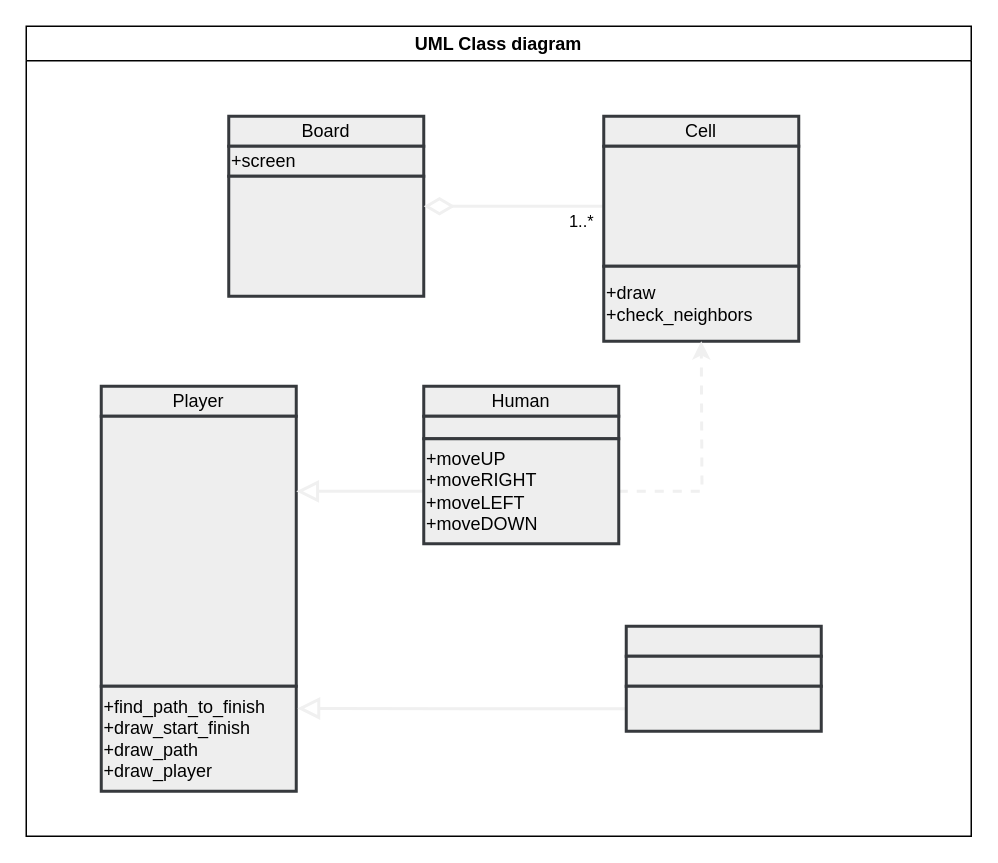
Image size: 998x863. Some labels were removed from this diagram. The shapes that lost their labels are listed below. From the top down, each one's box as (x1, y1, x2, y2) in pixels, then its label:
(602, 144, 800, 267): +x +y +walls +visited +screen
(226, 174, 424, 297): +generate_labyrinth +draw_cells
(99, 414, 297, 687): +x +y +sx +sy +fx +fy +screen +color +start_color +finish_color +path +stack
(624, 624, 822, 657): Bot
(624, 684, 822, 732): +stepNext
